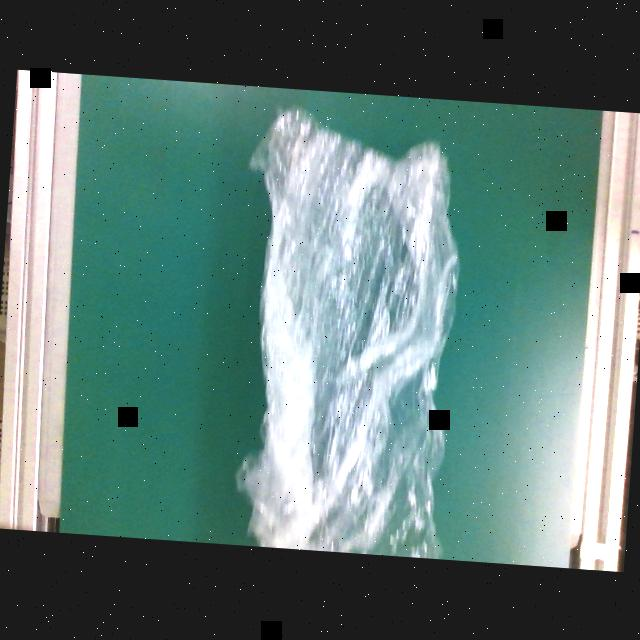scrap_plastic: (222, 96, 482, 558)
